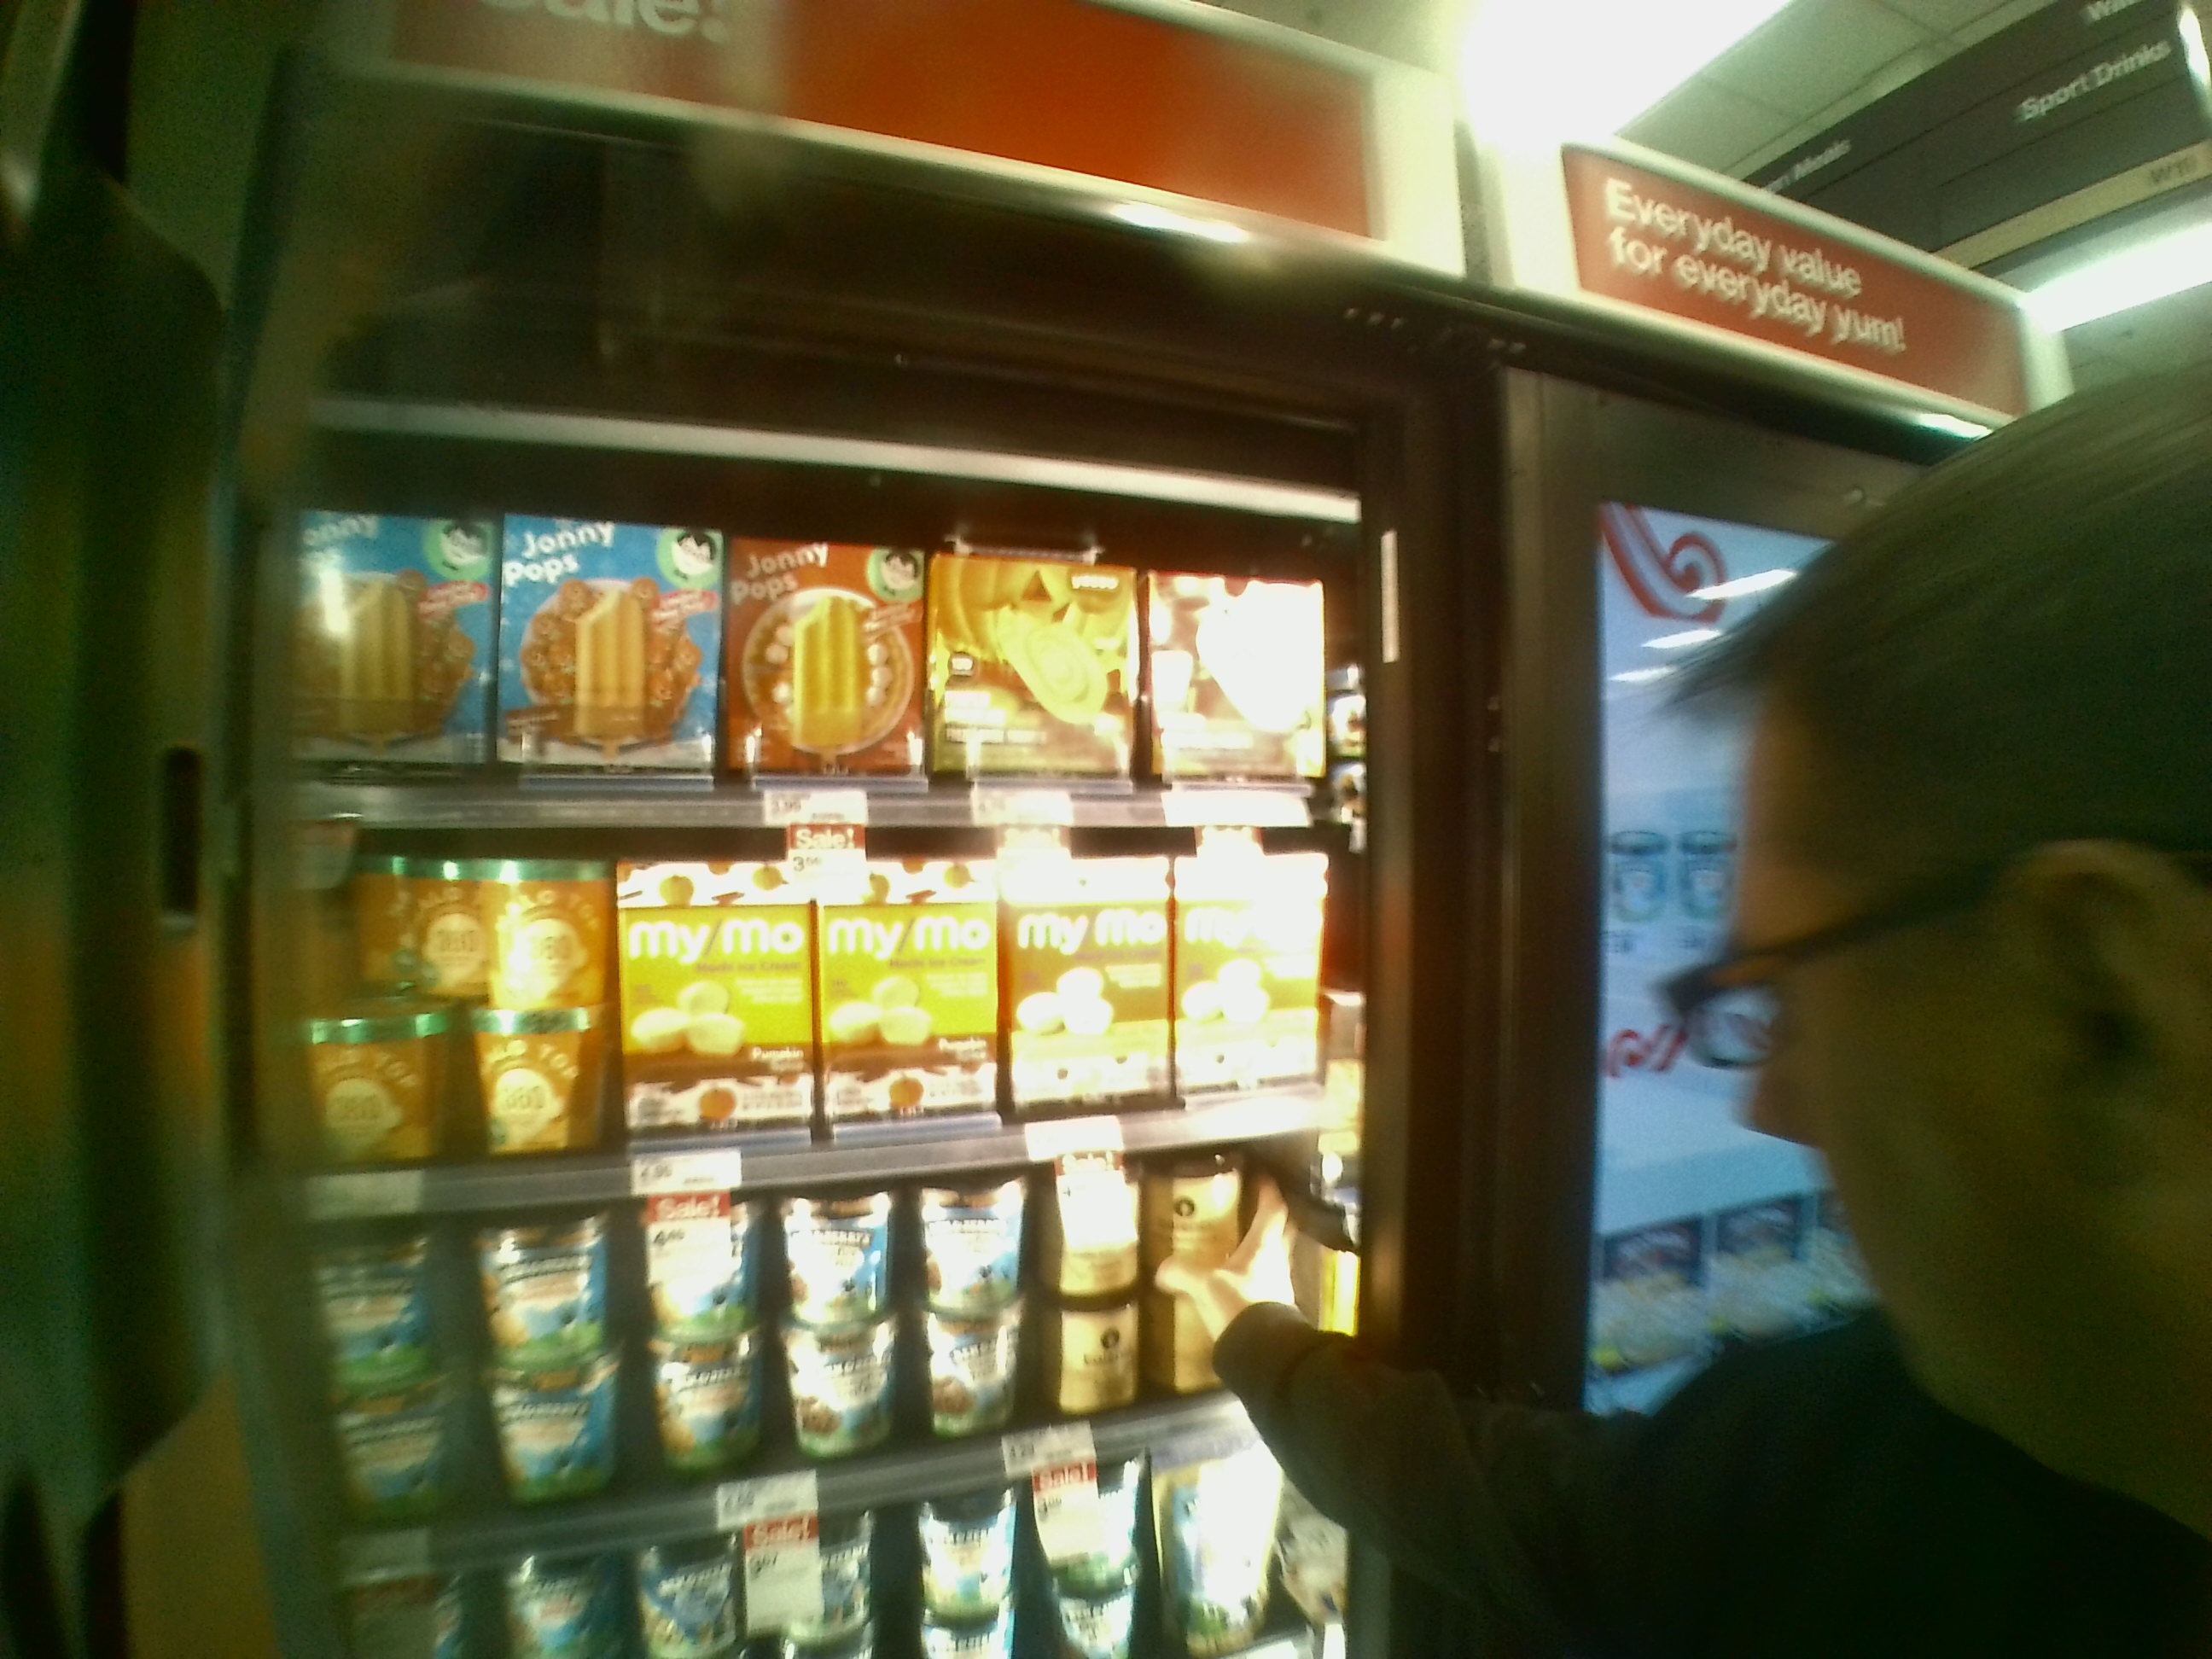shelf: (273, 399, 1374, 823), (289, 786, 1378, 1180)
